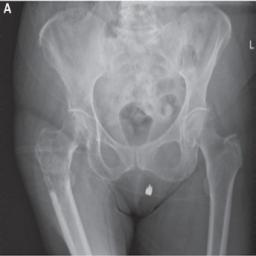cancer: (34, 113, 78, 197)
